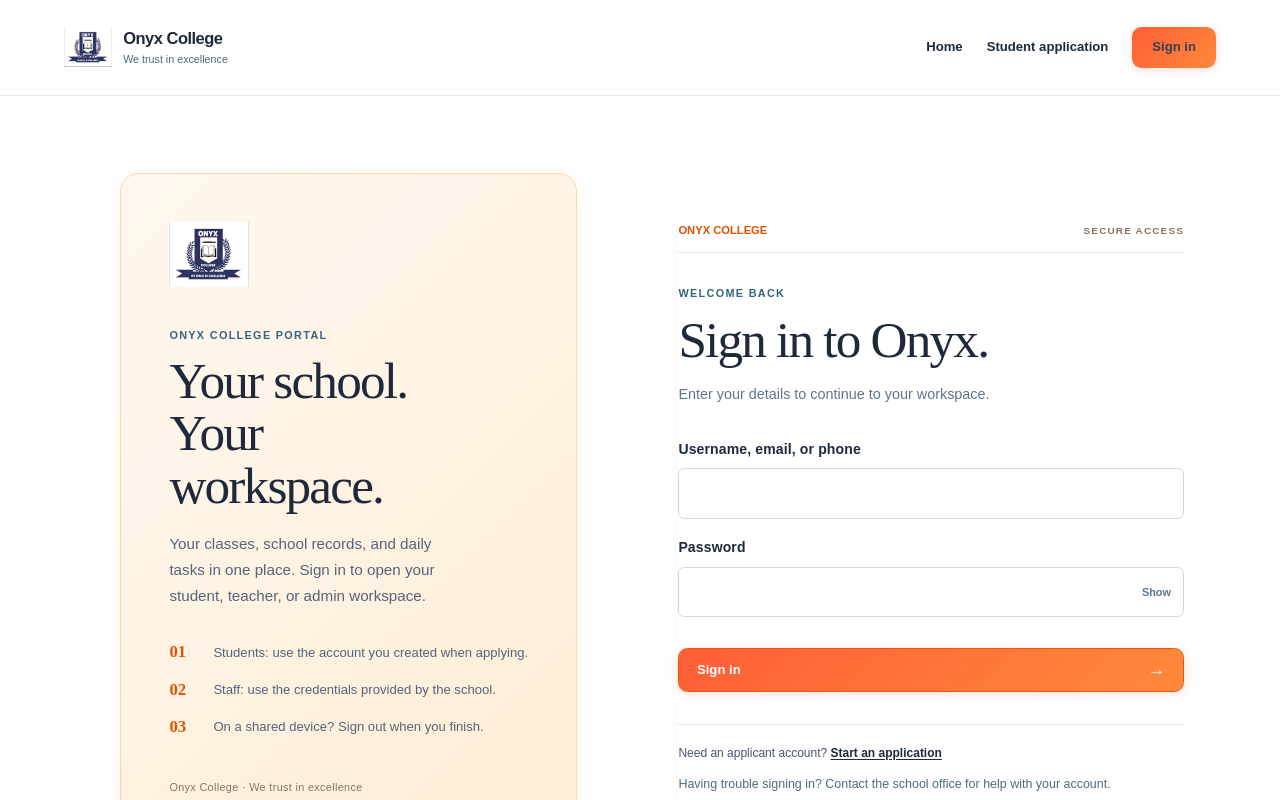
Test: browser authentication lifecycle › routes an unapproved applicant to onboarding and lets them sign out
Type "applicant.one" into the field labelled "Username, email, or phone". click: [931, 494]
box: [678,468,1184,519]
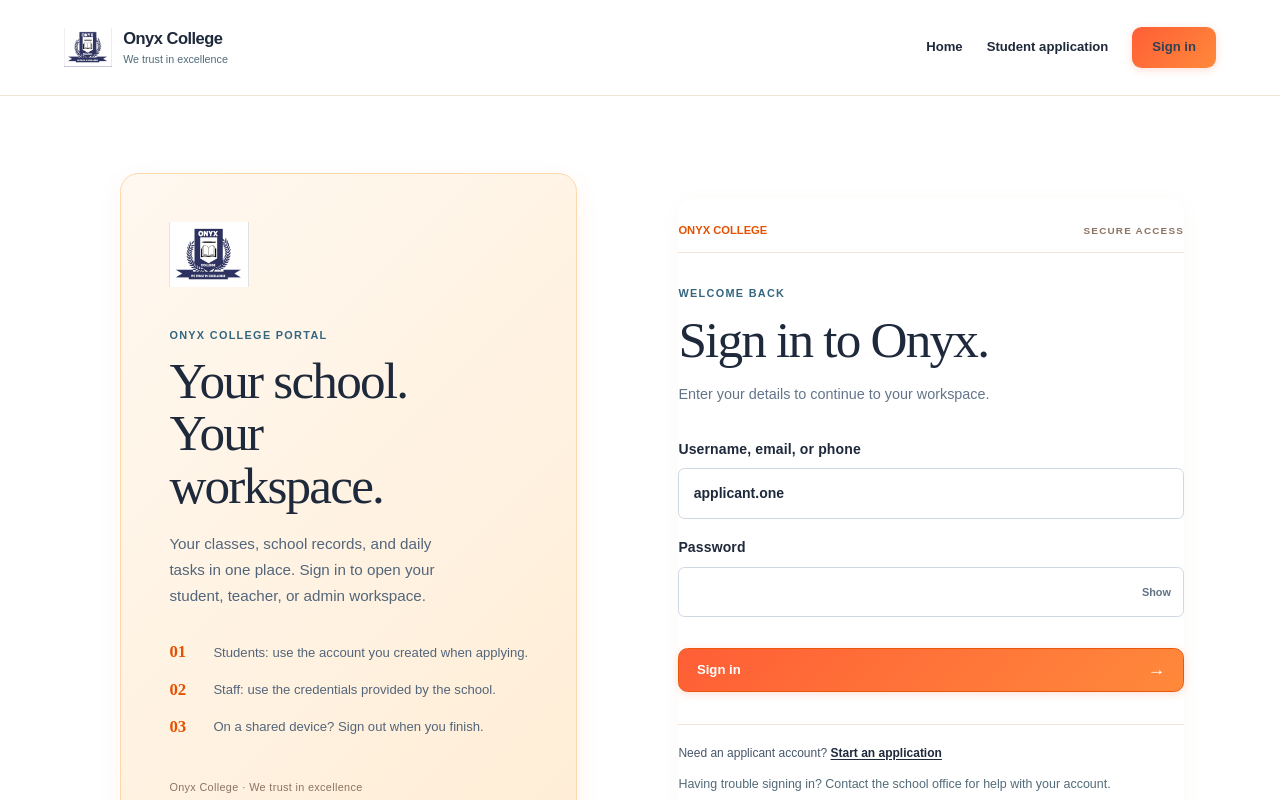
Type "a-secure-password" into the password field labelled "Password Show". click: [931, 592]
box: [678,567,1184,617]
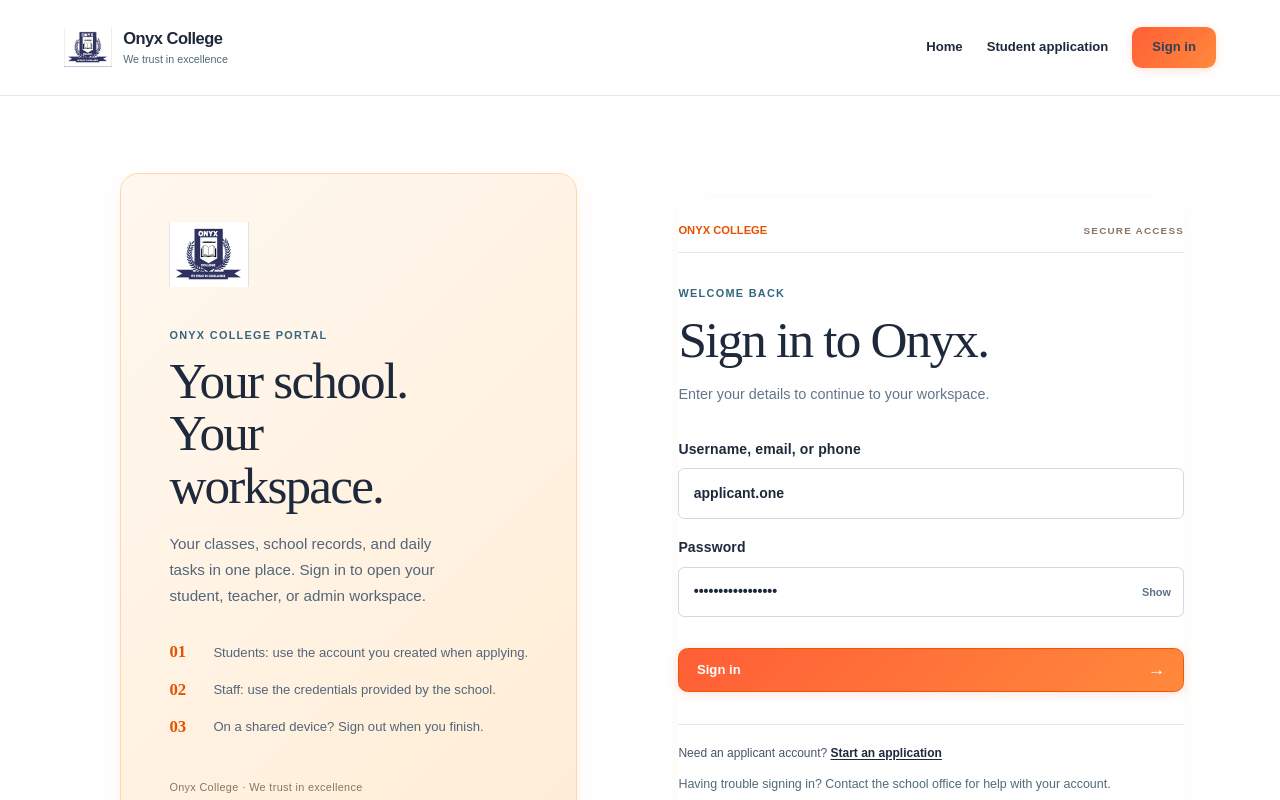
Click the button "Sign in →". click: [719, 670]
box: [678,648,1184,692]
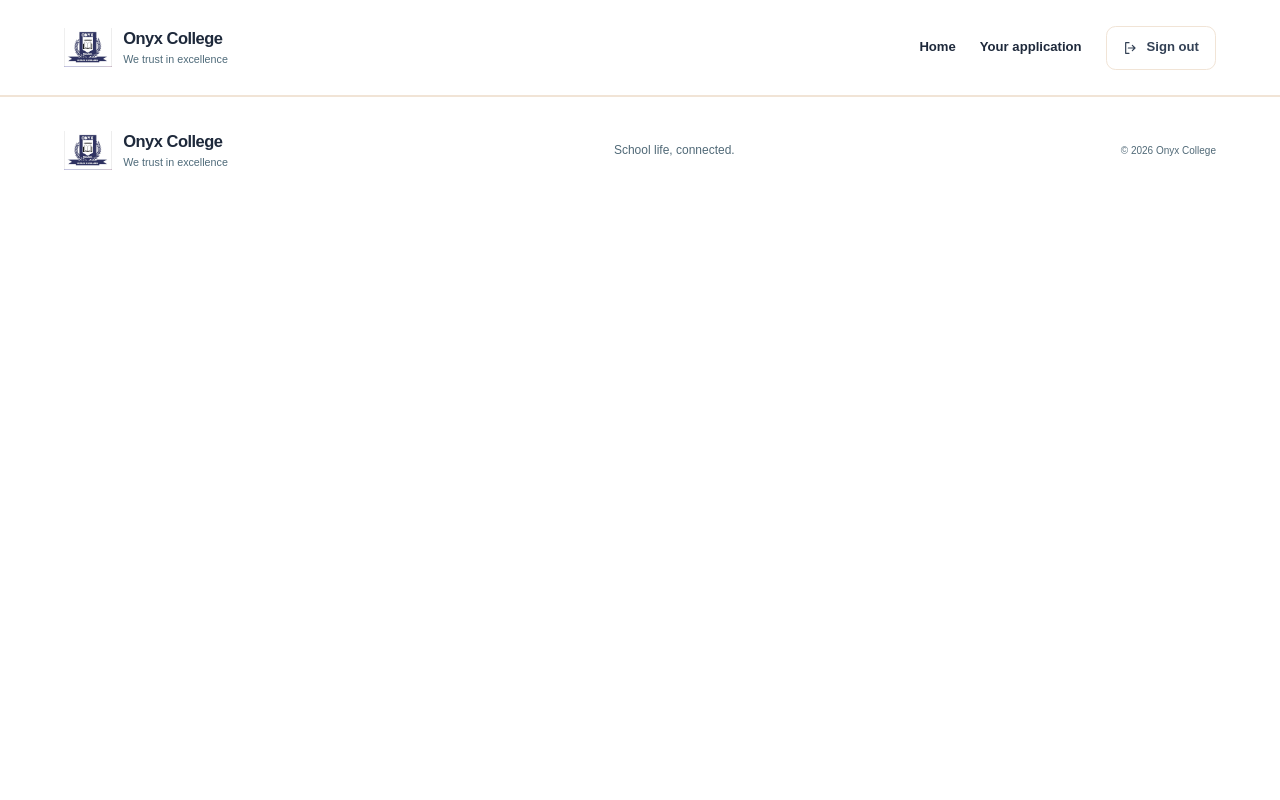
Expected: the link "Your application" is shown, [980,37,1082,58]
Click the button "Sign out". click: [1161, 48]
box: [1106,26,1216,70]
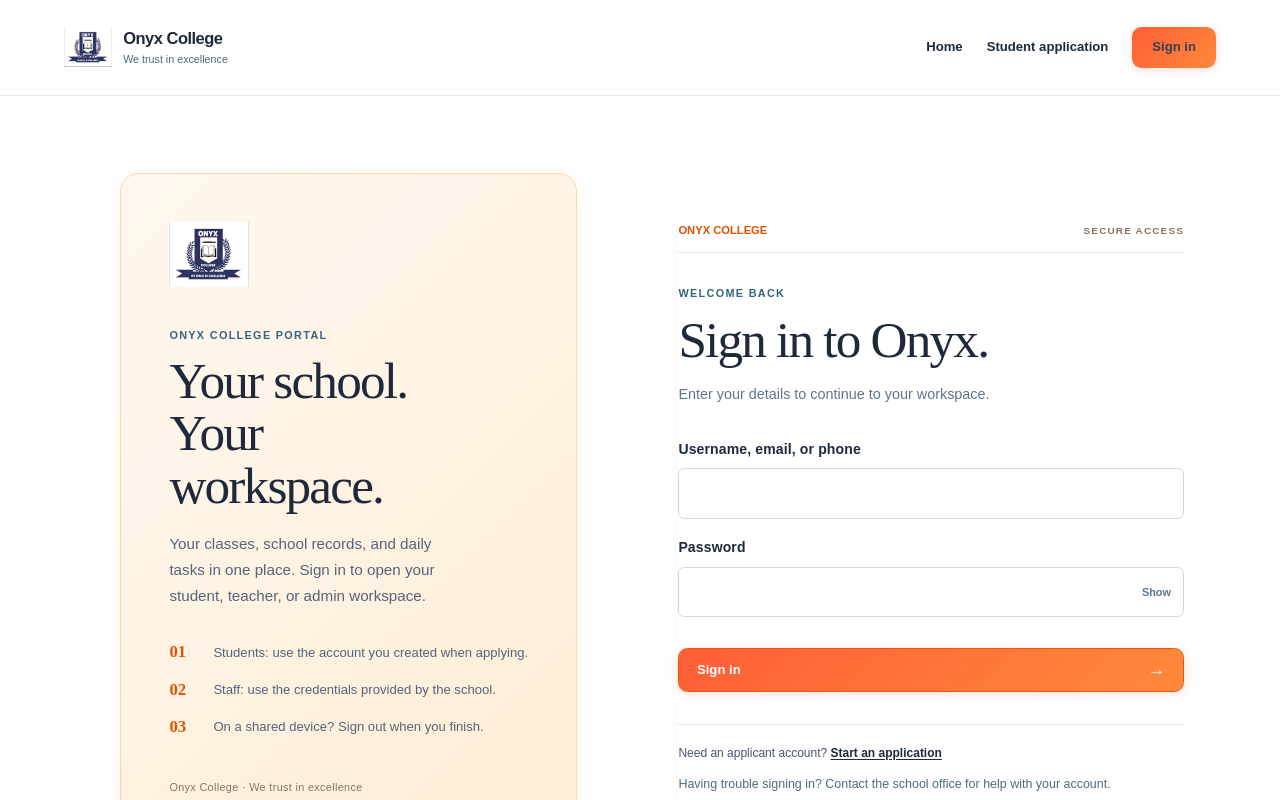
Expected: the heading "Sign in to Onyx." is shown, [678,311,988,368]
